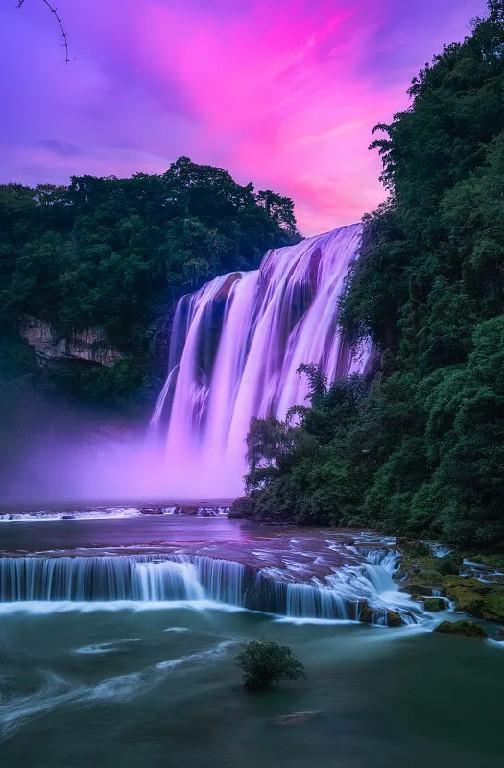Huangguoshu: (155, 222, 370, 500)
